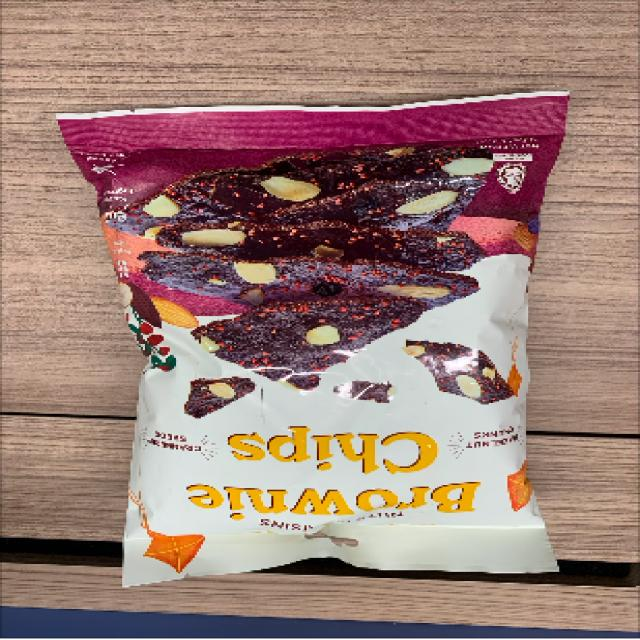object_name: (99, 121, 538, 570)
